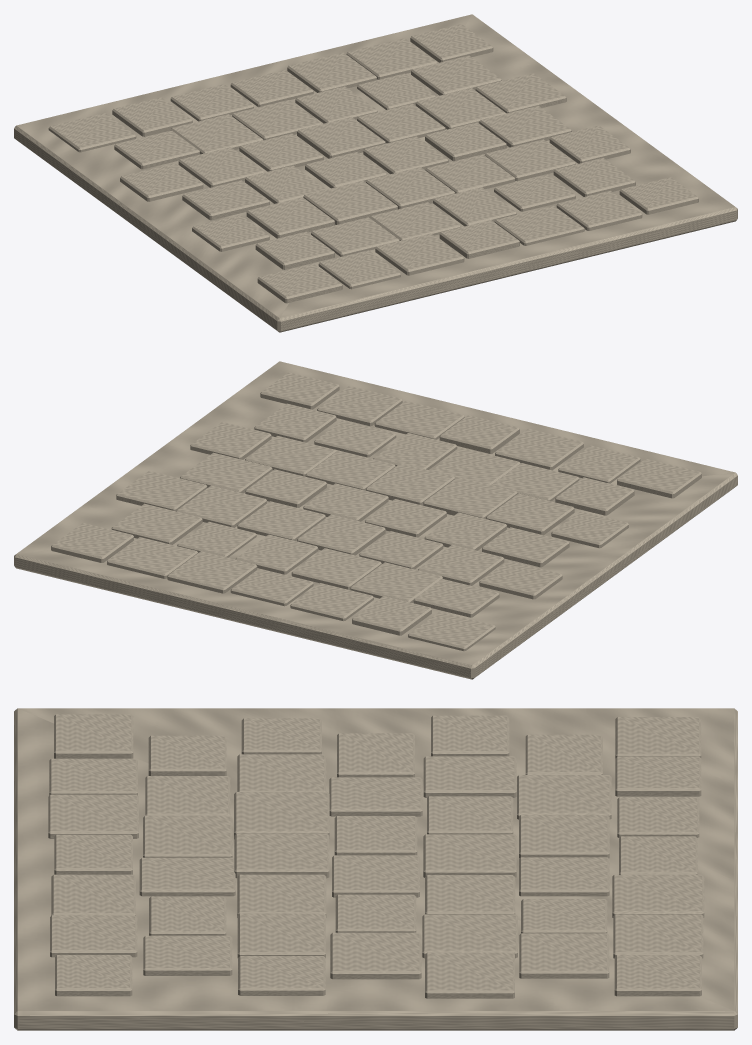
The model's file is fantasy-mmo-city-and-townsfolk-paved-street-tile-2595f83b__32714.glb.
The picture shows the model from 3 angles, top to bottom: view 1: azimuth 30°, elevation 25°; view 2: azimuth 150°, elevation 25°; view 3: azimuth 270°, elevation 25°; orthographic projection. The views are drawn at different scales.
Visible parts, largest first — view 1: paved-street-tile; view 2: paved-street-tile; view 3: paved-street-tile.
Part boxes in pixels (bbox=[...]): paved-street-tile: bbox=[14, 14, 737, 332]; paved-street-tile: bbox=[14, 361, 737, 679]; paved-street-tile: bbox=[14, 708, 737, 1030].
Size of the model in its own units: 4 by 0.1719 by 4.
1 material, 1 textured.
